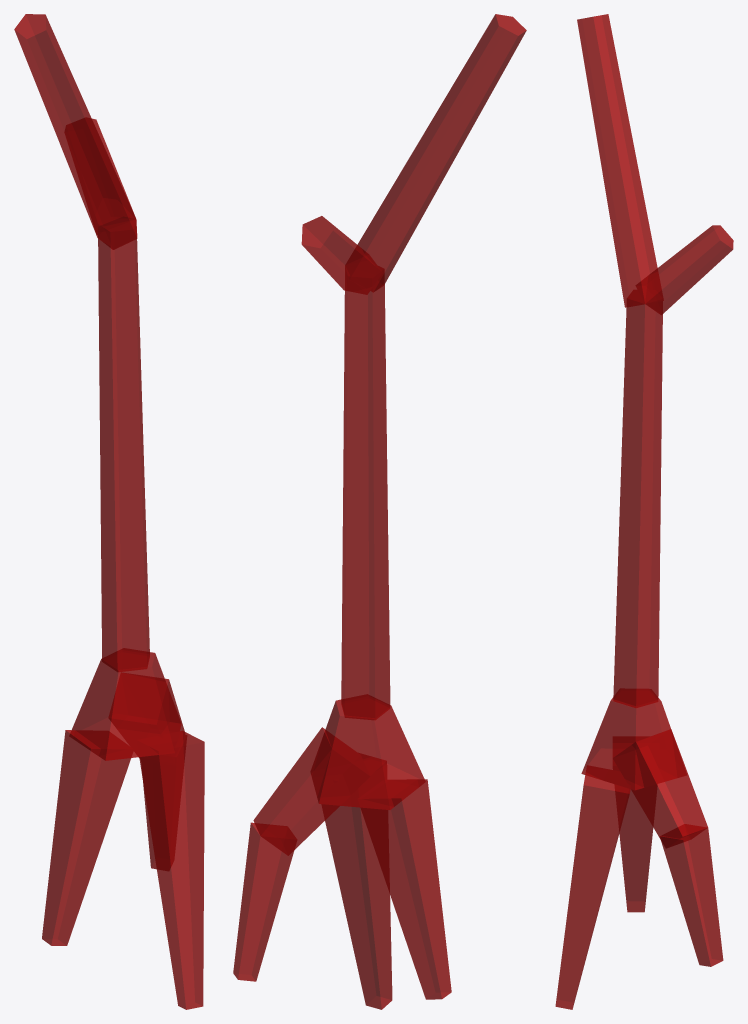
File: SM_Env_Tree_Swamp_04_Collision.fbx
3 views of the same model, side by side, from view 1: azimuth 30°, elevation 25°; view 2: azimuth 150°, elevation 25°; view 3: azimuth 270°, elevation 25° (orthographic). The views are drawn at different scales.
Visible parts, largest first — view 1: SM_Env_Tree_Swamp_04_Collision; view 2: SM_Env_Tree_Swamp_04_Collision; view 3: SM_Env_Tree_Swamp_04_Collision.
Part boxes in pixels (x1=…): SM_Env_Tree_Swamp_04_Collision: x1=14, y1=14, x2=204, y2=1009; SM_Env_Tree_Swamp_04_Collision: x1=233, y1=14, x2=526, y2=1009; SM_Env_Tree_Swamp_04_Collision: x1=555, y1=14, x2=733, y2=1009.
Size of the model in its own units: 80.8 by 356 by 61.7.
